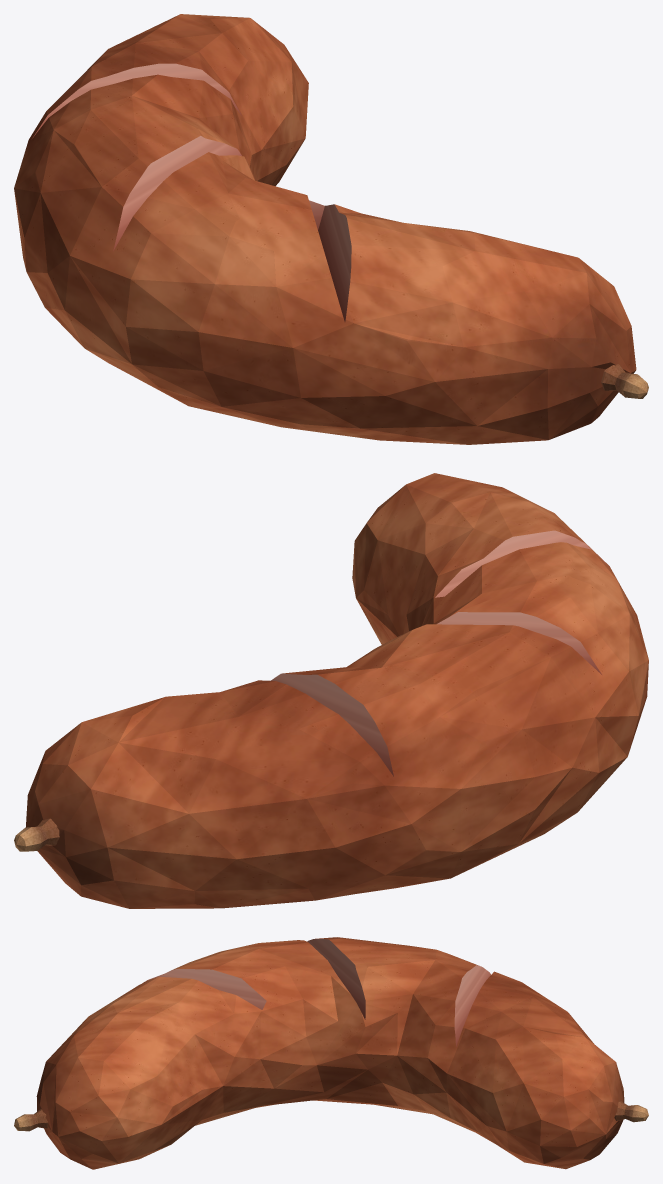
The model's file is UINNER.obj.
The picture shows the model from 3 angles, top to bottom: view 1: azimuth 30°, elevation 25°; view 2: azimuth 150°, elevation 25°; view 3: azimuth 270°, elevation 25°; orthographic projection. The views are drawn at different scales.
Visible parts, largest first — view 1: tripo_node_4f43eaae-c249-404a-84e8-e86a7f8abfeb; view 2: tripo_node_4f43eaae-c249-404a-84e8-e86a7f8abfeb; view 3: tripo_node_4f43eaae-c249-404a-84e8-e86a7f8abfeb.
Boxes of the visible parts, left/top/right/bottom form: tripo_node_4f43eaae-c249-404a-84e8-e86a7f8abfeb: left=14, top=14, right=648, bottom=444; tripo_node_4f43eaae-c249-404a-84e8-e86a7f8abfeb: left=14, top=473, right=648, bottom=908; tripo_node_4f43eaae-c249-404a-84e8-e86a7f8abfeb: left=14, top=937, right=648, bottom=1169.
Bounding box in the file's own units: 0.5469 × 0.2791 × 1.08.
Materials: 1 (1 with a texture image).
